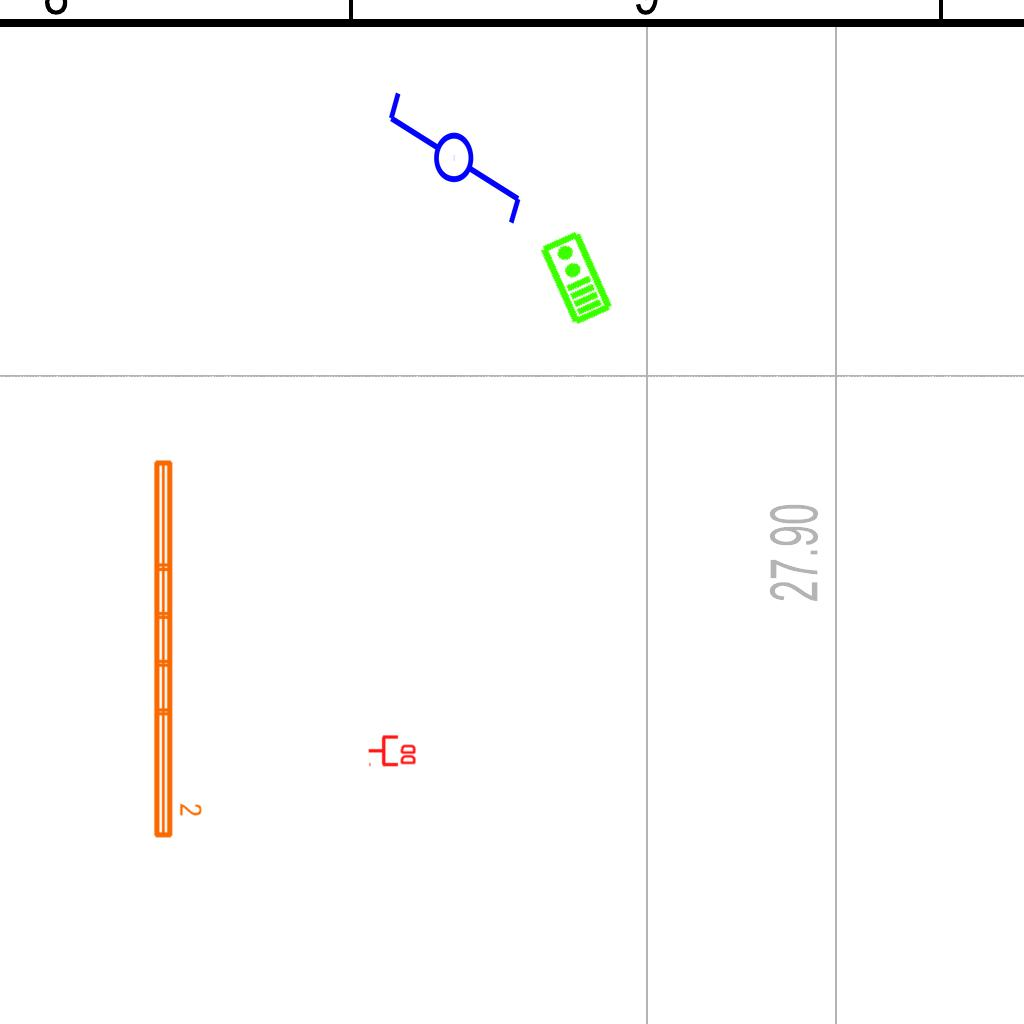Ambulanz_Pendelleuchte_LED: (148, 455, 204, 842)
Datenanschluss_zweifach: (367, 733, 418, 767)
Gegensprechanlage_mit_Video: (536, 228, 615, 328)
Wechselschalter: (384, 71, 528, 228)
